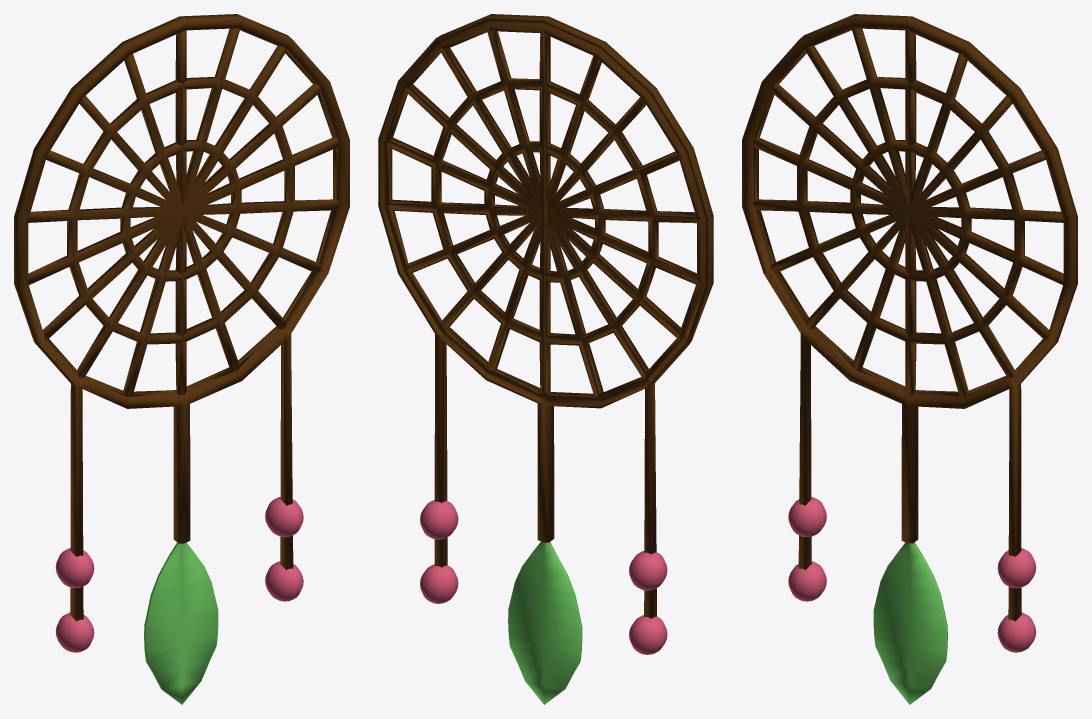
Rendered from acchiappasogni1.fbx.
The picture shows the model from 3 angles, left to right: view 1: azimuth 30°, elevation 25°; view 2: azimuth 150°, elevation 25°; view 3: azimuth 330°, elevation 25°; orthographic projection.
Parts seen in each view (by area): view 1: dream; view 2: dream; view 3: dream.
Part boxes in pixels (<box>): dream: <box>14,14,349,704</box>; dream: <box>378,14,713,704</box>; dream: <box>742,14,1077,704</box>.
Bounding box in the file's own units: 10.1 × 20 × 1.1.
